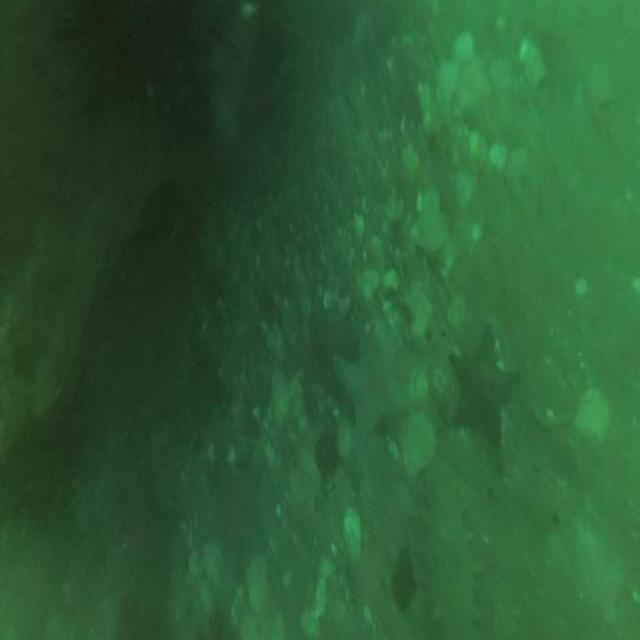echinus: (64, 0, 209, 115)
holothurian: (418, 472, 481, 640)
scallop: (401, 417, 436, 474)
starfish: (449, 324, 518, 449), (333, 322, 403, 438)
